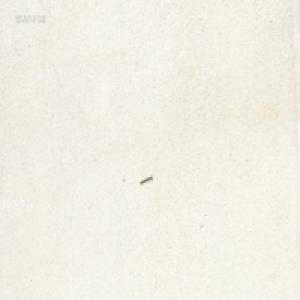Bolt: (139, 174, 152, 185)
